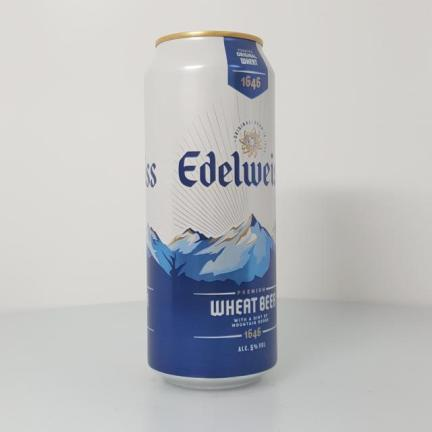can: (144, 31, 277, 389)
